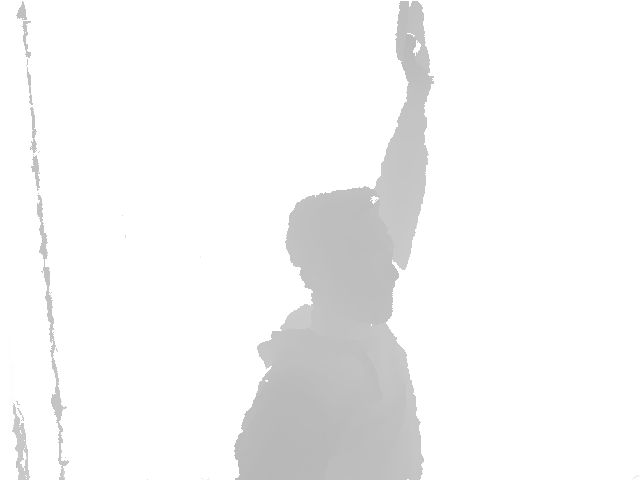hand: (395, 1, 435, 93)
head: (284, 185, 401, 326)
person: (233, 1, 436, 480)
